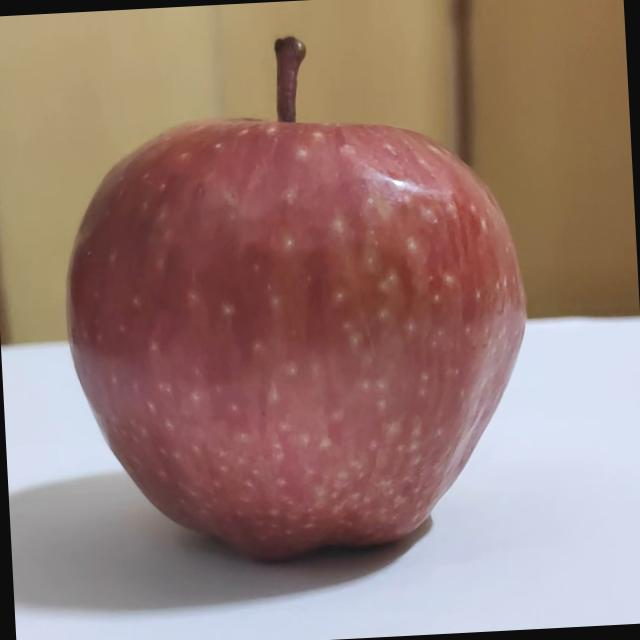apple: (51, 19, 542, 583)
